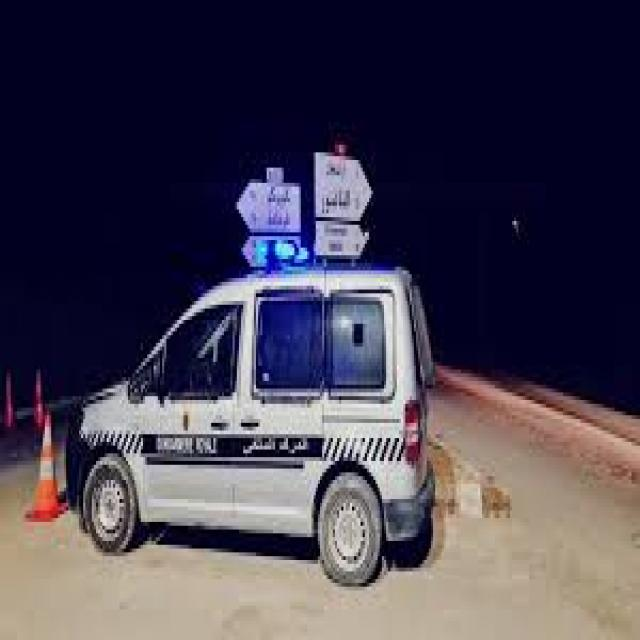gendarme car: (60, 234, 442, 593)
